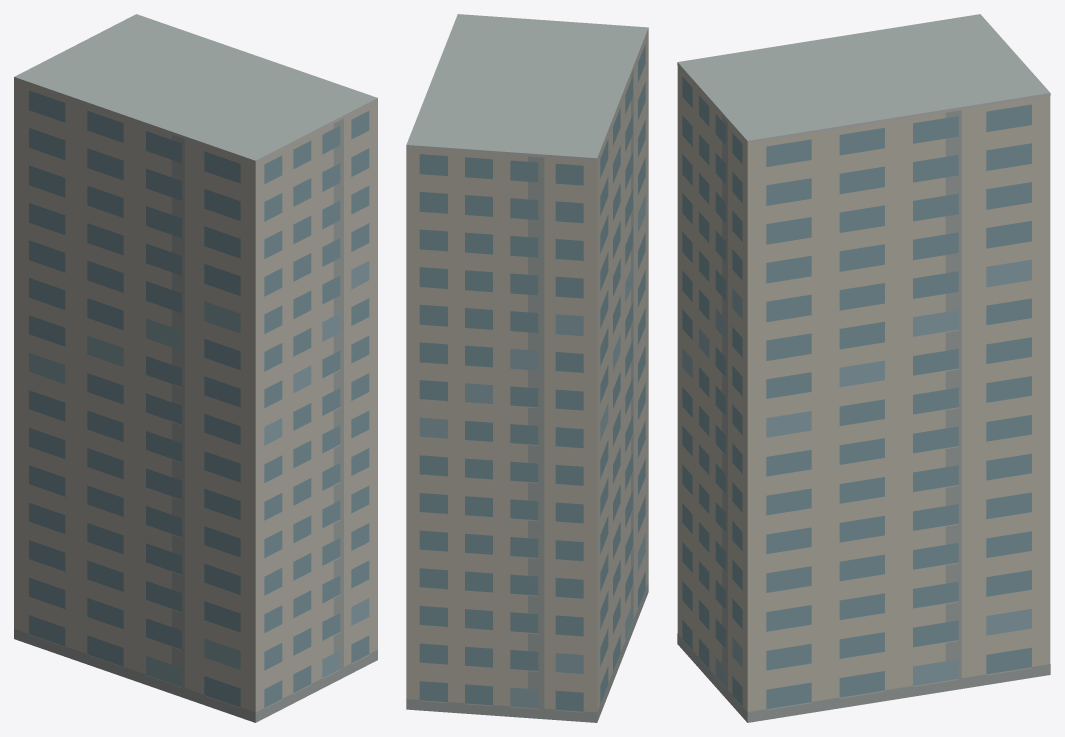
Rendered from residential-b7281397-f7d9-4bf7-9a78-5ec4be2c6dbe.glb.
3 renders of one model, left to right at view 1: azimuth 30°, elevation 25°; view 2: azimuth 150°, elevation 25°; view 3: azimuth 270°, elevation 25°, orthographic. The views are drawn at different scales.
Parts seen in each view (by area): view 1: residential-b7281397-f7d9-4bf7-9a78-5ec4be2c6dbe.tmp; view 2: residential-b7281397-f7d9-4bf7-9a78-5ec4be2c6dbe.tmp; view 3: residential-b7281397-f7d9-4bf7-9a78-5ec4be2c6dbe.tmp.
Boxes of the visible parts, x1=… form: residential-b7281397-f7d9-4bf7-9a78-5ec4be2c6dbe.tmp: x1=14, y1=14, x2=377, y2=722; residential-b7281397-f7d9-4bf7-9a78-5ec4be2c6dbe.tmp: x1=406, y1=14, x2=648, y2=722; residential-b7281397-f7d9-4bf7-9a78-5ec4be2c6dbe.tmp: x1=677, y1=14, x2=1050, y2=722.
Size of the model in its own units: 21.06 by 45 by 26.15.
